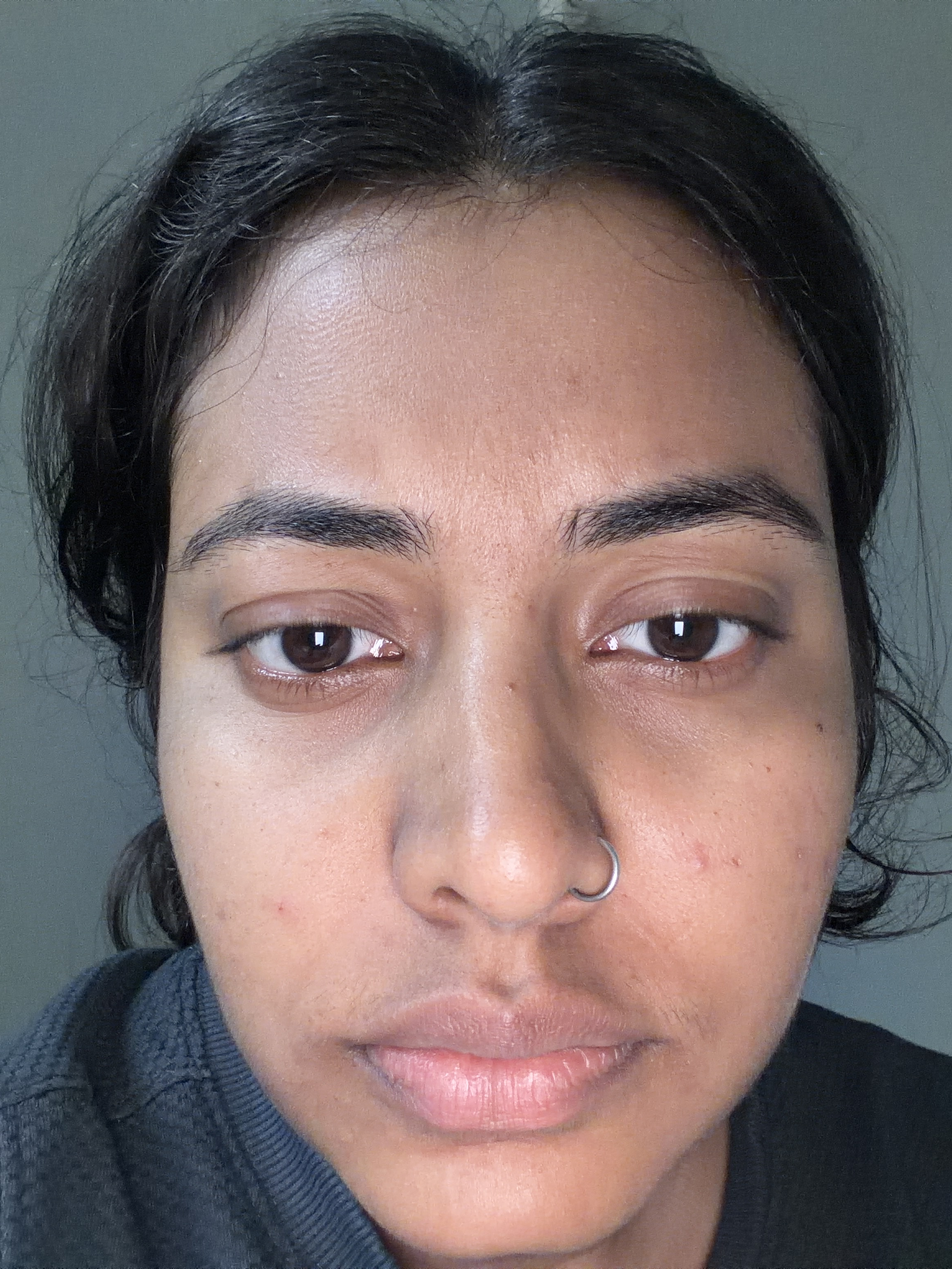closed_comedone: (336, 1132, 357, 1150)
papule: (690, 845, 725, 887)
